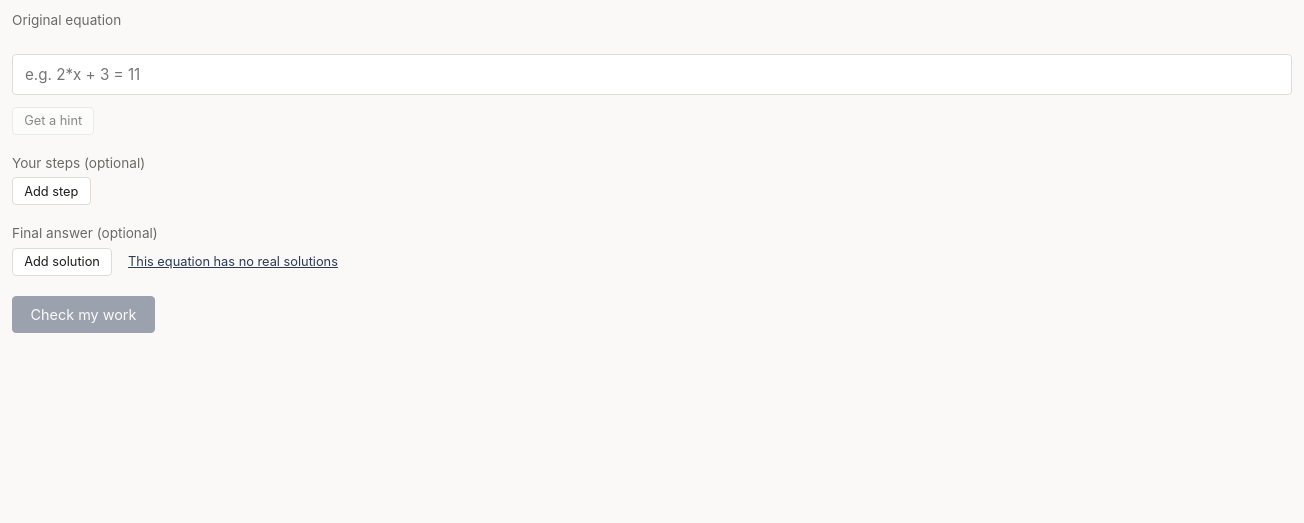
CheckWorkForm › sends listed solution values when solutions are added
The image size is (1304, 523).
Type "2*x = 4" into the field labelled "Original equation" at (652,74), box [12,54,1292,95]
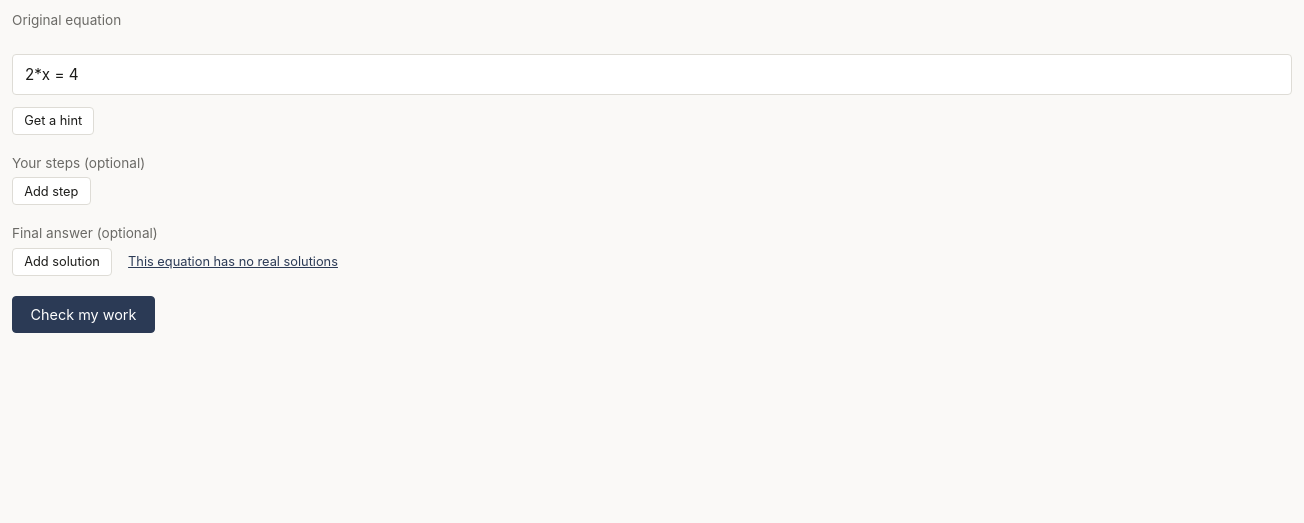
Click the button "Add solution" at (62,262), box [12,248,112,276]
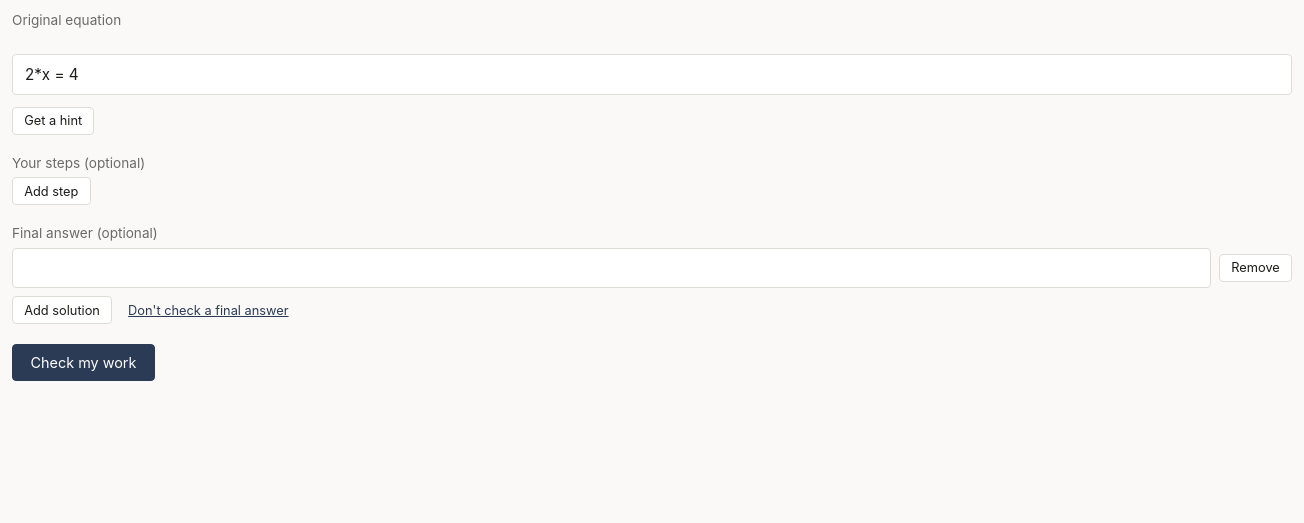
Type "2" into the field named "Proposed solution 1" at (612,268), box [12,248,1211,288]
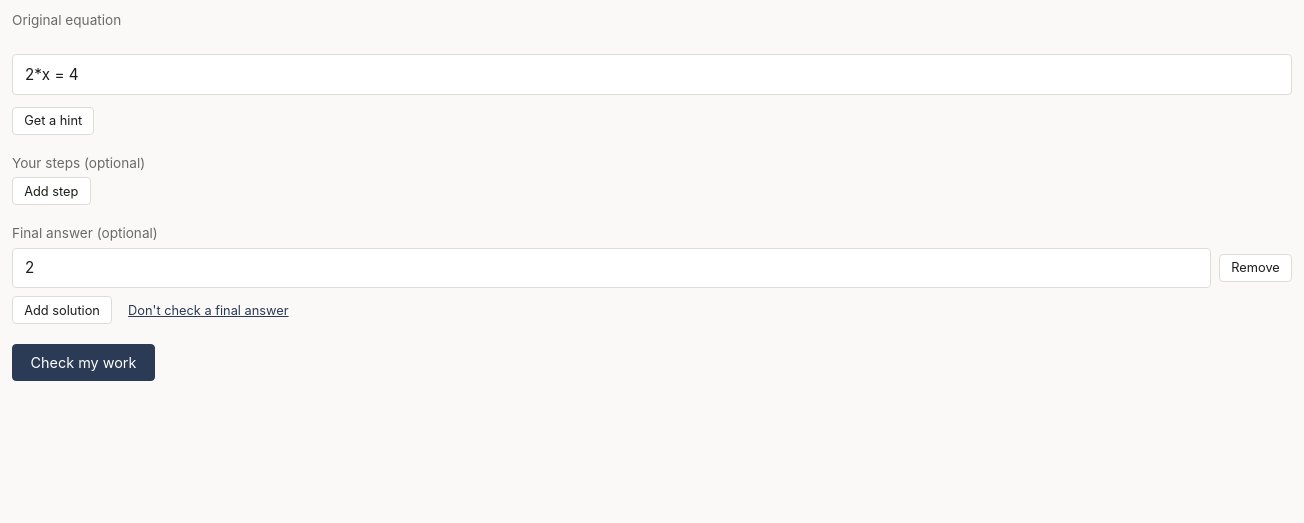
Click the button "Check my work" at (84,362), box [12,344,155,381]
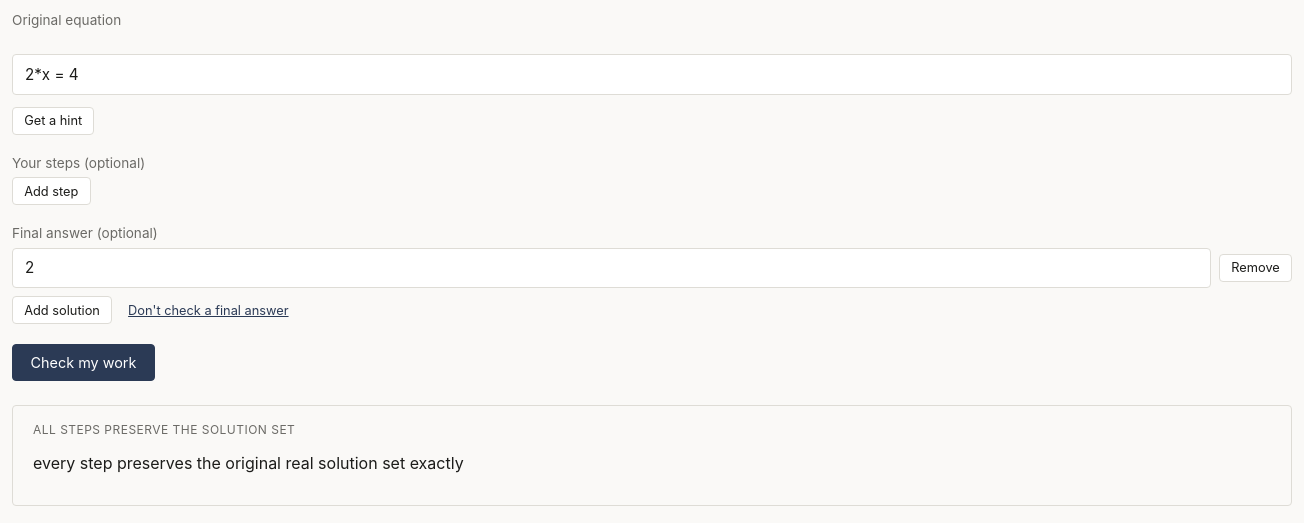
Check: the text "All steps preserve the solution set" is shown, box [33,422,295,437]
